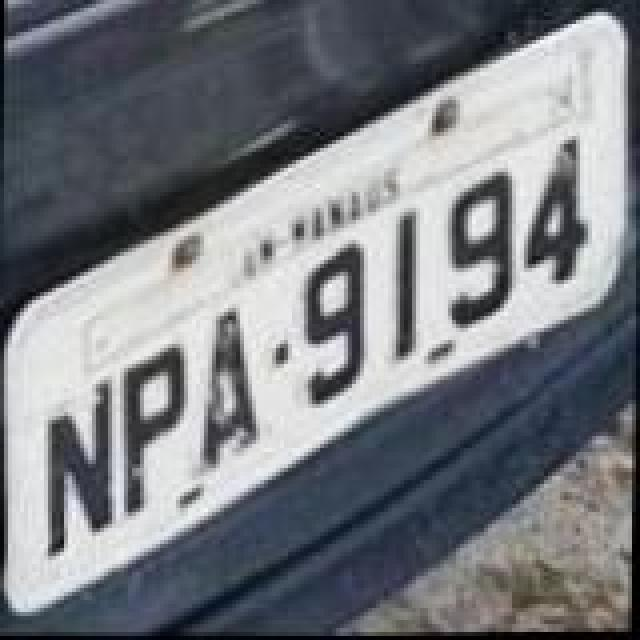1: (392, 208, 420, 364)
4: (526, 138, 594, 290)
9: (444, 172, 516, 332), (300, 240, 368, 408)
A: (198, 310, 266, 482)
N: (48, 374, 120, 558)
P: (122, 344, 190, 520)
